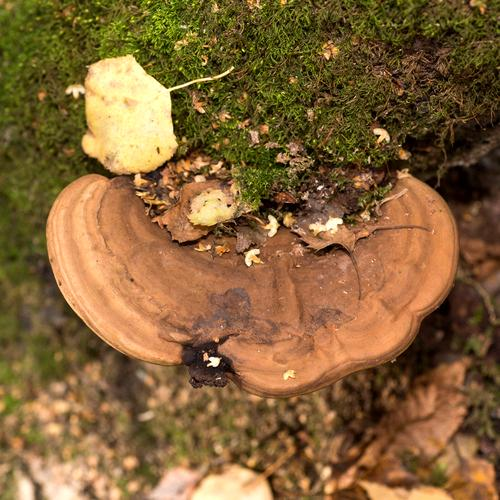Ganoderma - Fruit Body: (38, 176, 460, 400), (77, 56, 187, 174)
